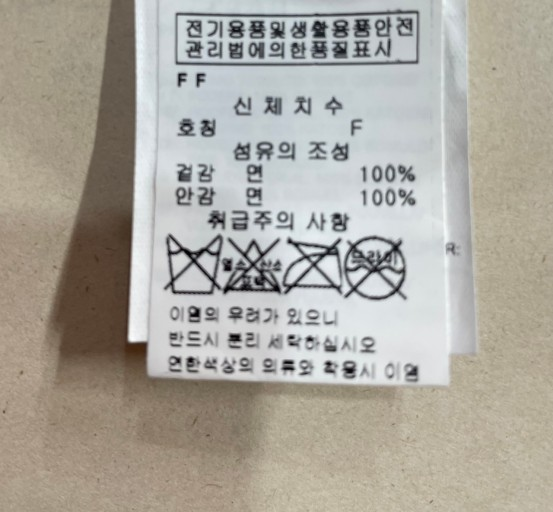KR_no_bleach: (222, 236, 281, 296)
KR_no_dry_clean: (341, 233, 410, 302)
KR_no_iron: (282, 237, 344, 295)
KR_no_wash: (163, 232, 221, 298)
